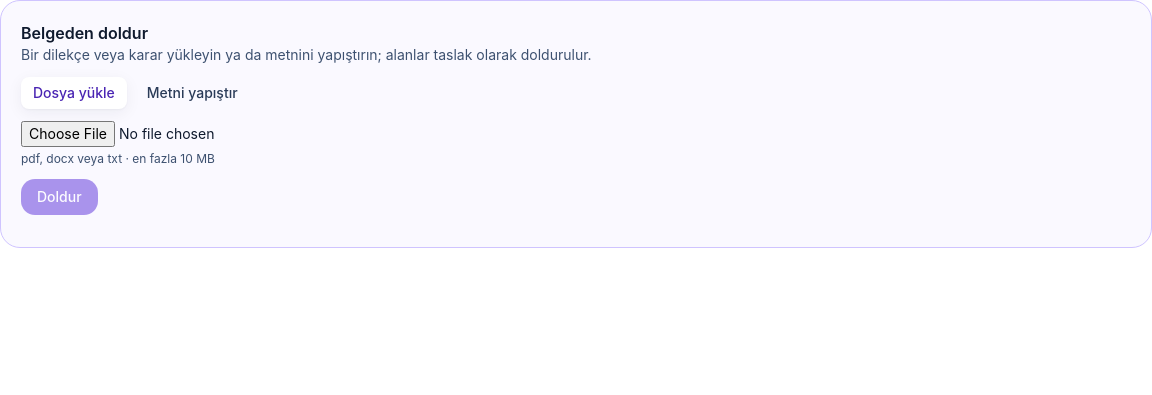
Scenario: IntakeFillBox › shows the backend detail in an alert and does not hand over a draft on failure
The image size is (1152, 395).
Click the tab "Metni yapıştır" at (192,93), box [135,77,250,109]
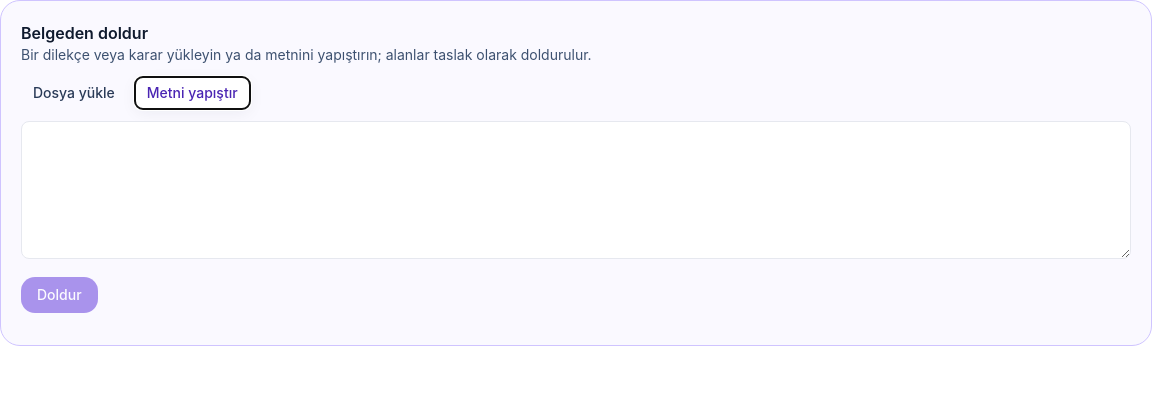
Type "Davacı vekili dilekçesi" into the text box named "Belge metni" at (576,190), box [21,121,1131,259]
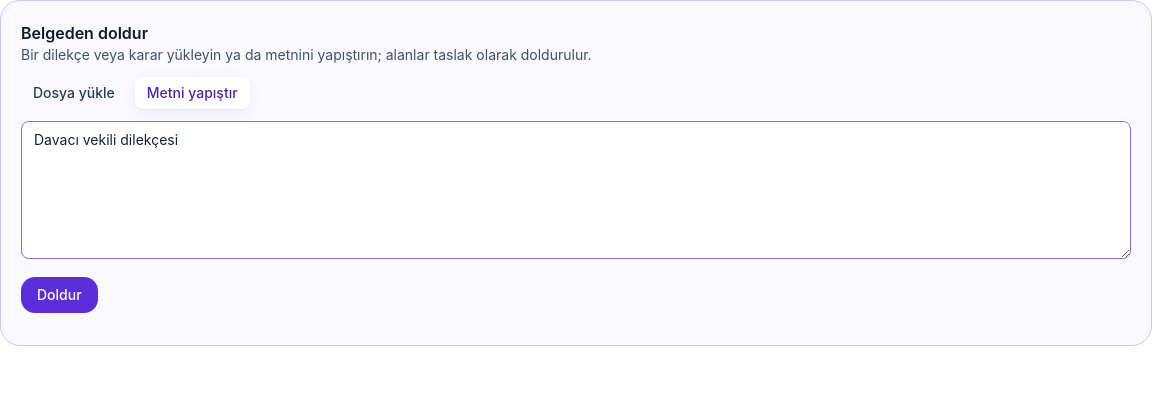
Click the button "Doldur" at (59,295), box [21,277,98,313]
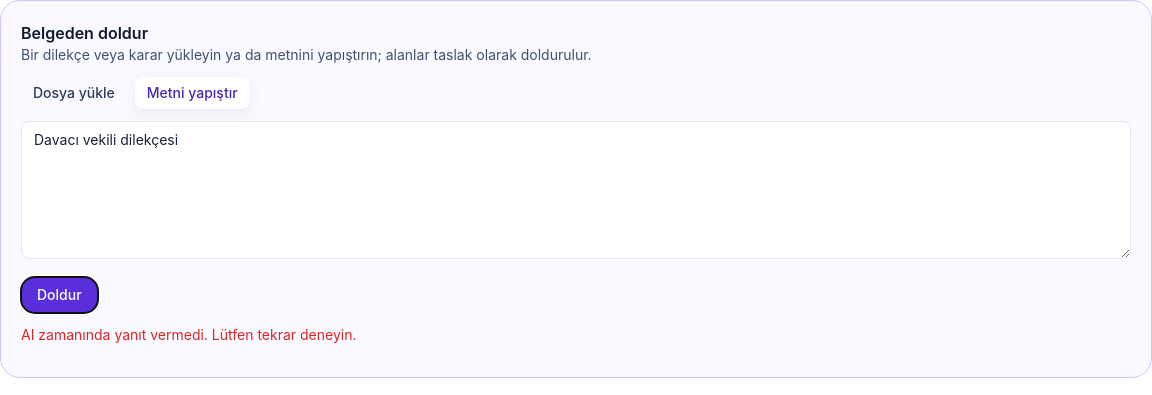
Result: the message reads "AI zamanında yanıt vermedi. Lütfen tekrar deneyin." at [21,326,356,343]
